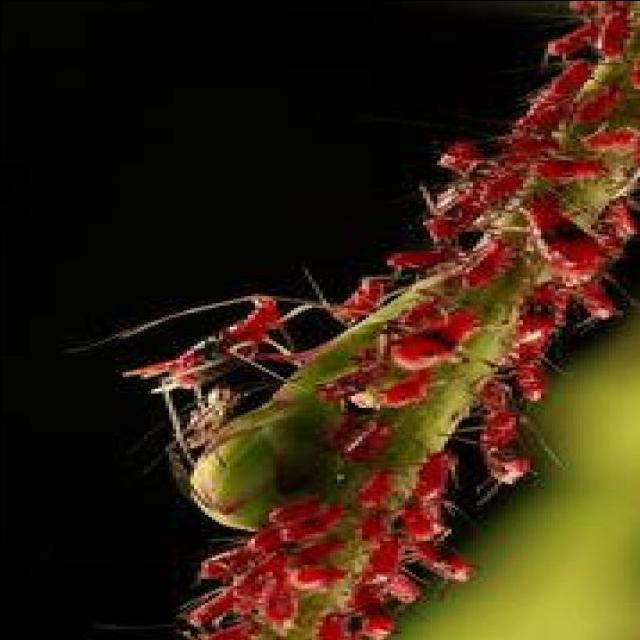aphid: (133, 8, 640, 637)
